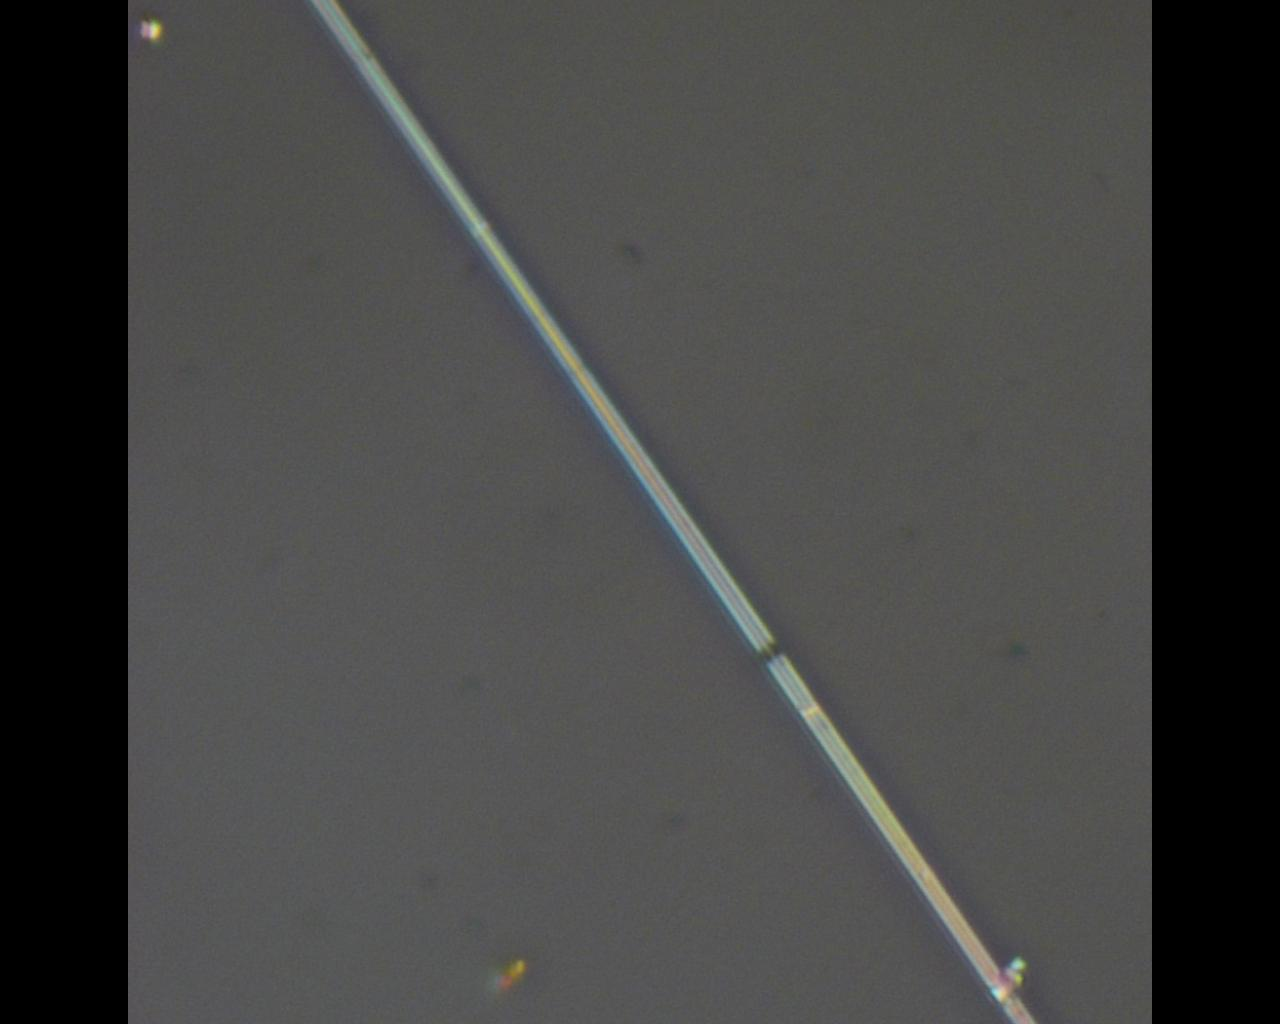fiber: (210, 604, 604, 1024), (0, 116, 691, 315), (691, 454, 1280, 604)
